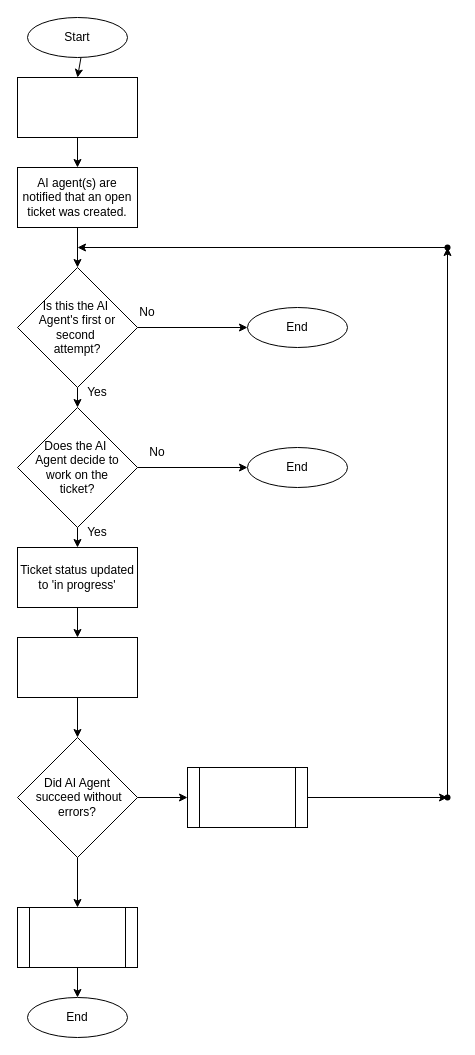
This 475x1055 diagram has some shape labels left out. The box of each missing label's shape, as (x1, y1, x2, y2) in pixels:
AI Agent works on issue: (16, 636, 138, 698)
Failure workflow: (186, 766, 308, 828)
New entry created in database; ticket has open status: (16, 76, 138, 138)
Review workflow: (16, 906, 138, 968)
